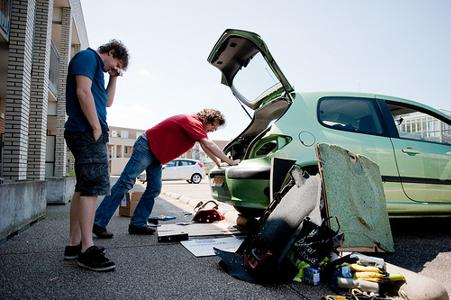person: (89, 109, 241, 240)
